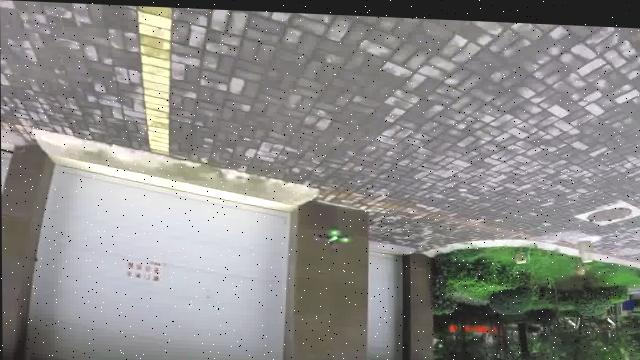drone: (305, 222, 357, 247)
